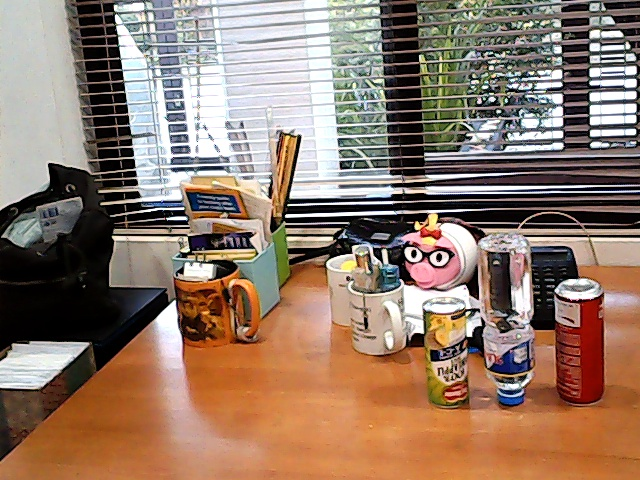Cola: (548, 268, 614, 412)
Pine Juice: (419, 289, 475, 415)
Summit Water: (480, 221, 539, 413)
